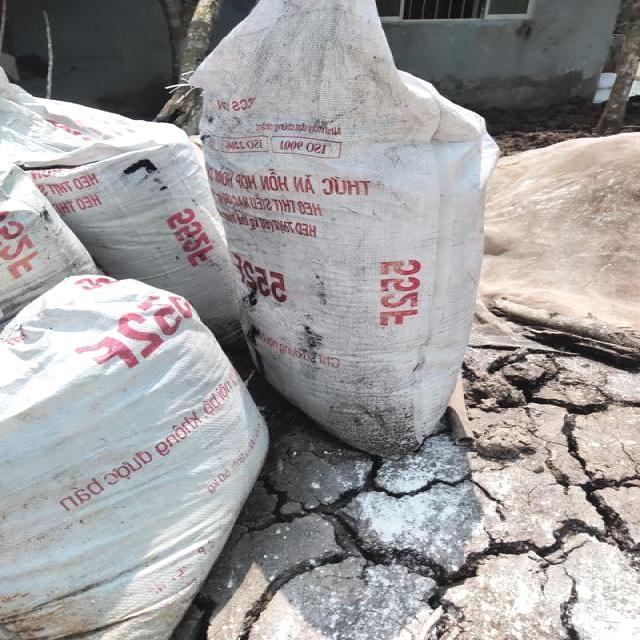gunny_bag: (189, 0, 497, 458), (0, 275, 267, 640), (1, 72, 240, 342)
